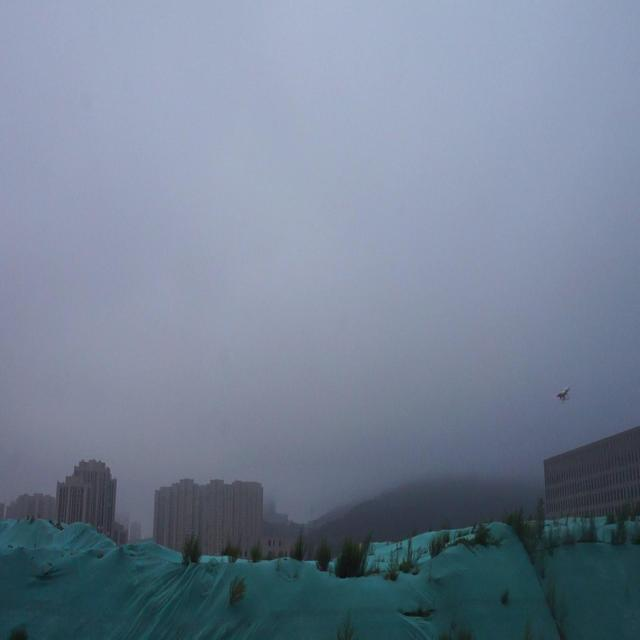drone: (552, 382, 574, 410)
